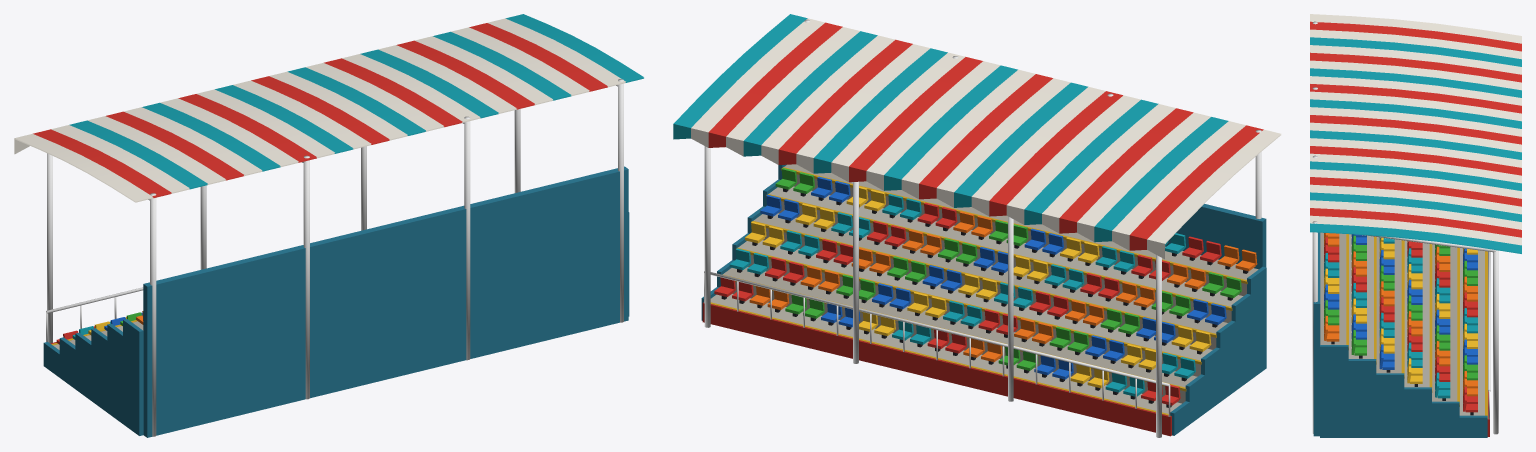
The model's file is grandstand.glb.
3 views of the same model, side by side, from view 1: azimuth 30°, elevation 25°; view 2: azimuth 150°, elevation 25°; view 3: azimuth 270°, elevation 25° (orthographic). The views are drawn at different scales.
Parts seen in each view (by area): view 1: grandstand_mesh; view 2: grandstand_mesh; view 3: grandstand_mesh.
Boxes of the visible parts, box(x1,y1,x2,y2) form: grandstand_mesh: box(14, 14, 643, 437); grandstand_mesh: box(673, 14, 1281, 437); grandstand_mesh: box(1310, 14, 1521, 437).
Size of the model in its own units: 14.8 by 6.7 by 6.1.
